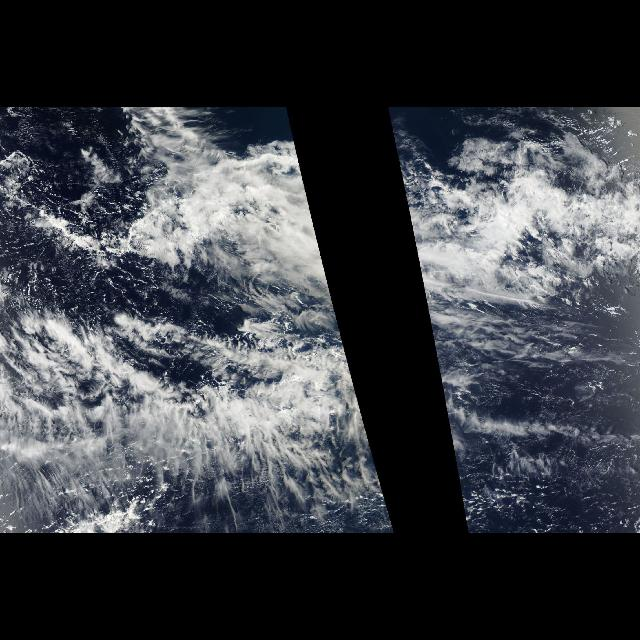Gravel: (1, 152, 123, 310)
Sugar: (456, 351, 626, 533)
